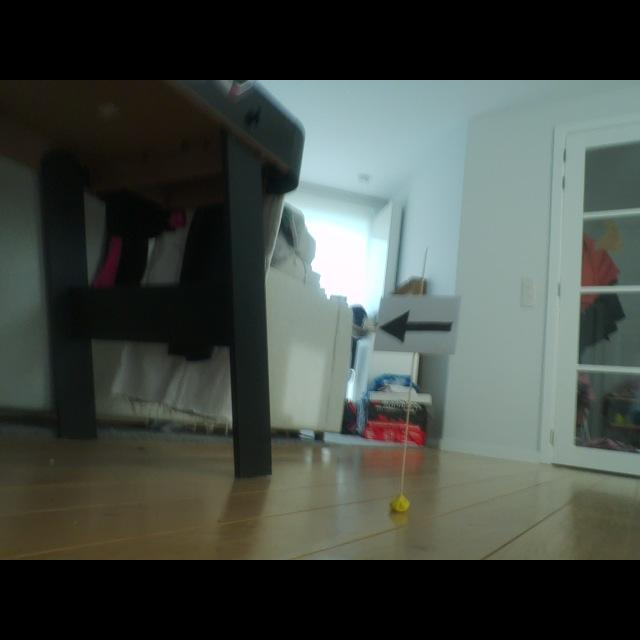balra_nyil: (380, 310, 452, 342)
